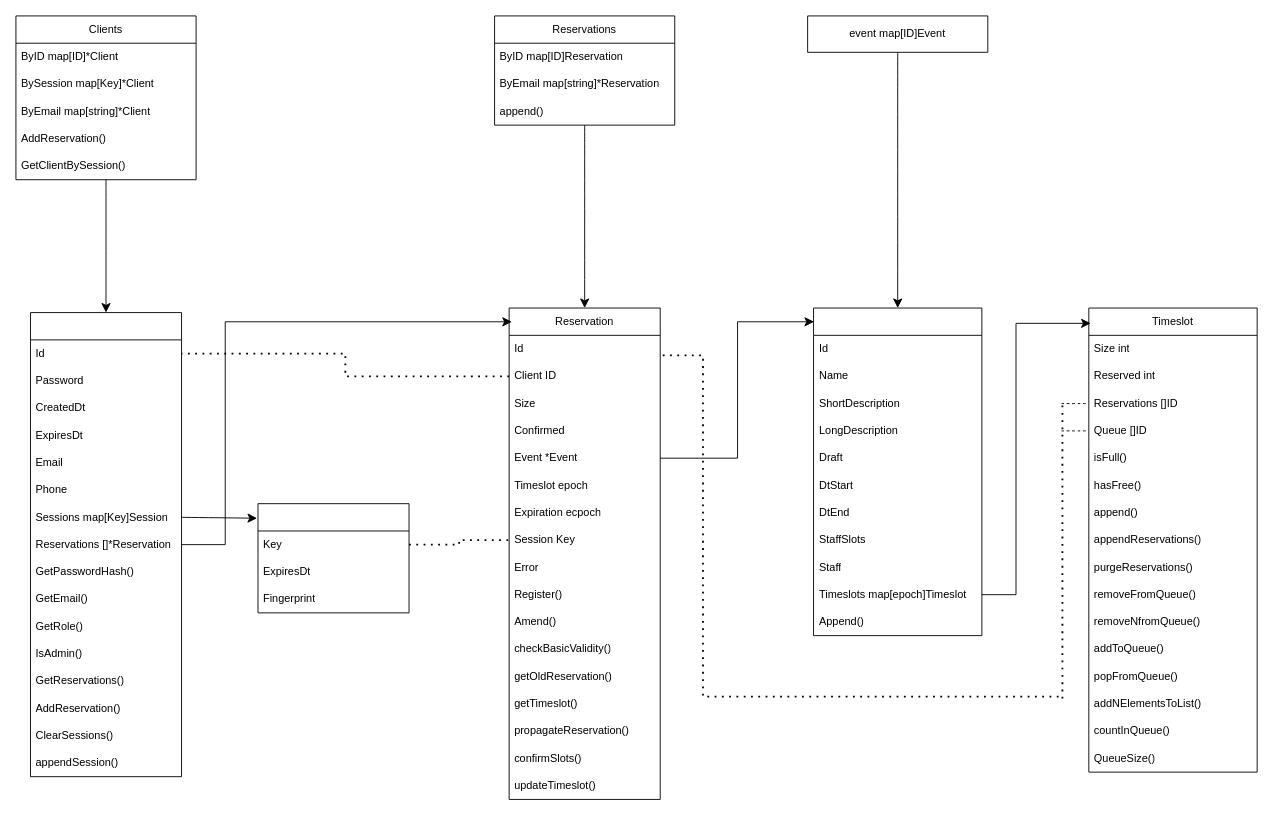
Image size: 1273x815. Some labels were removed from this diagram. Here are the shapes that lost their labels. From the top down, the box of each, then its label:
(813, 307, 982, 636): Event
(30, 312, 182, 777): Client
(257, 503, 409, 613): Session
